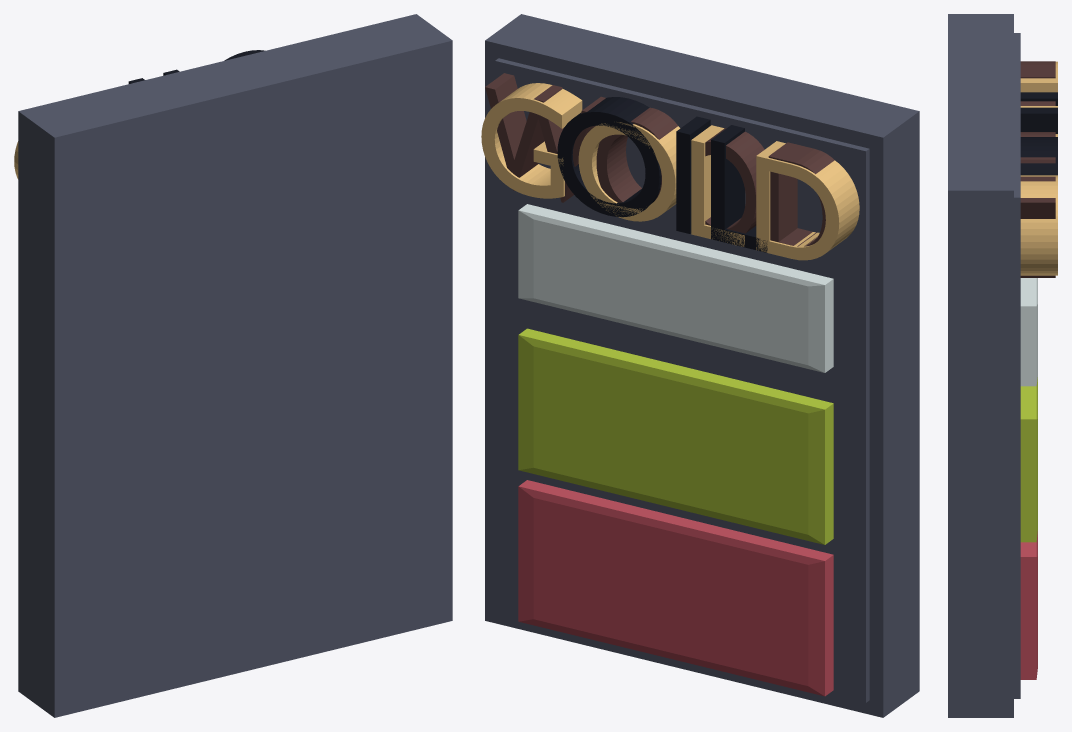
The model's file is broker-plate.fbx.
3 renders of one model, left to right at view 1: azimuth 30°, elevation 25°; view 2: azimuth 150°, elevation 25°; view 3: azimuth 270°, elevation 25°, orthographic. The views are drawn at different scales.
Visible parts, largest first — view 1: plate; view 2: plate, Sell-btn, Buy-btn, Cost-plate, gold-text, wood-text, oil-text; view 3: plate, gold-text, Buy-btn, oil-text, Sell-btn, wood-text, Cost-plate.
Boxes of the visible parts, left/top/right/bottom form: plate: left=18, top=14, right=452, bottom=717; plate: left=485, top=14, right=919, bottom=717; Sell-btn: left=518, top=480, right=833, bottom=696; Buy-btn: left=518, top=328, right=833, bottom=544; Cost-plate: left=518, top=204, right=833, bottom=372; gold-text: left=481, top=83, right=859, bottom=260; wood-text: left=485, top=73, right=834, bottom=246; oil-text: left=557, top=97, right=767, bottom=252; plate: left=948, top=14, right=1020, bottom=717; gold-text: left=1020, top=61, right=1057, bottom=275; Buy-btn: left=1020, top=377, right=1037, bottom=542; oil-text: left=1020, top=92, right=1057, bottom=175; Sell-btn: left=1020, top=531, right=1037, bottom=679; wood-text: left=1020, top=61, right=1055, bottom=277; Cost-plate: left=1020, top=278, right=1037, bottom=386.
Bounding box in the file's own units: 200 × 279 × 52.51.
Materials: 1 (1 with a texture image).
